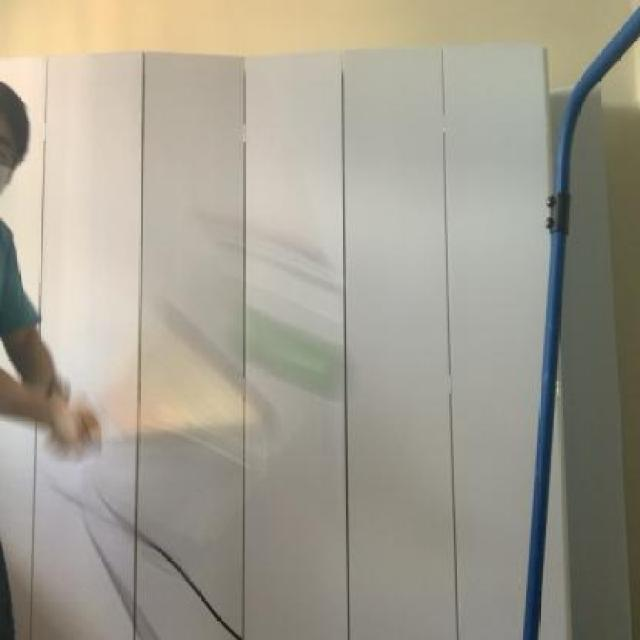baseball: (228, 297, 347, 401)
